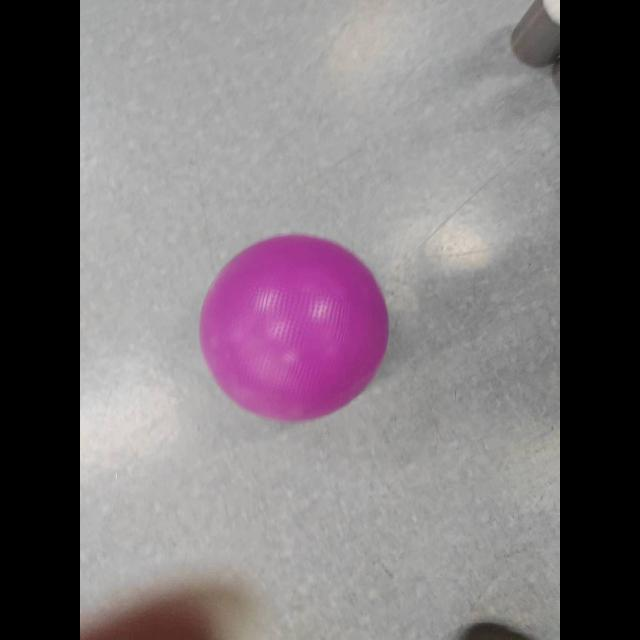P: (192, 228, 394, 424)
